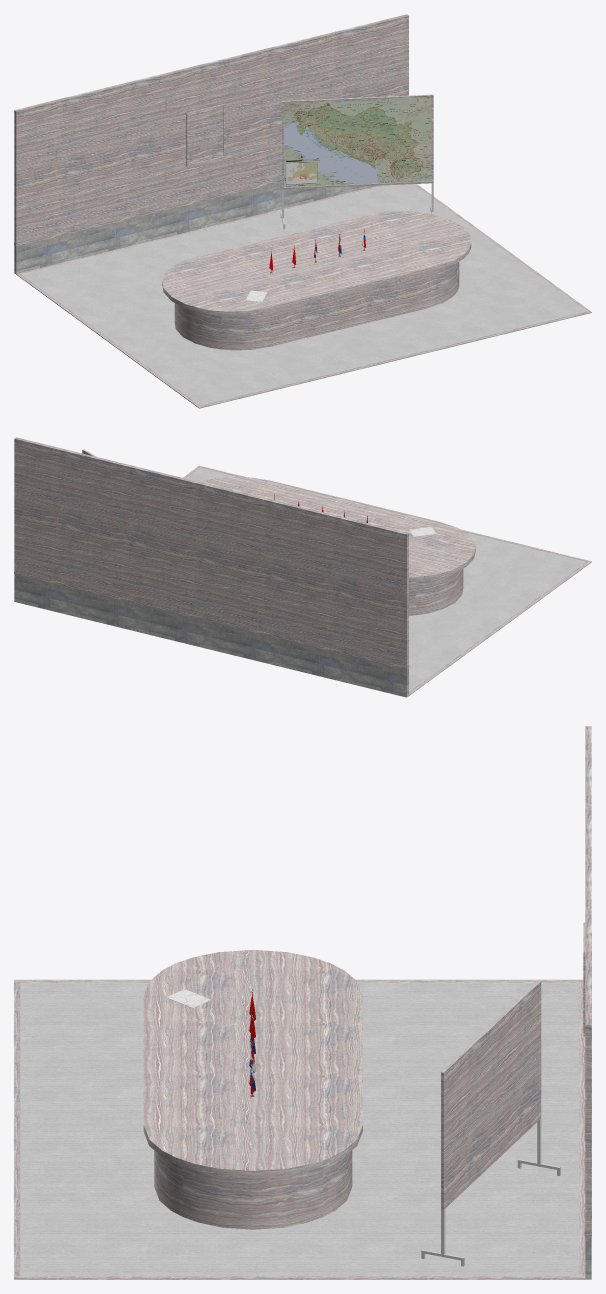
File: ured_predsjednistva.obj
3 views of the same model, one above another, from view 1: azimuth 30°, elevation 25°; view 2: azimuth 150°, elevation 25°; view 3: azimuth 270°, elevation 25° (orthographic). The views are drawn at different scales.
Parts seen in each view (by area): view 1: Part20, Part7, Union3, Part10, Union4, Part16, Part18, Union1, Part1, Part19, Part17, Part8 (+2 smaller); view 2: Part20, Part16, Part7, Union3, Union4, Part19, Part8, Part1; view 3: Part7, Union3, Union1, Union4, Part20, Part2, Part1, Part17, Part8, Part19.
Part boxes in pixels (bbox=[...]): Part20: bbox=[14, 14, 408, 243]; Part7: bbox=[22, 184, 585, 405]; Union3: bbox=[162, 211, 471, 315]; Part10: bbox=[284, 97, 431, 187]; Union4: bbox=[174, 262, 459, 350]; Part16: bbox=[14, 182, 376, 274]; Part18: bbox=[188, 106, 223, 164]; Union1: bbox=[282, 94, 433, 189]; Part1: bbox=[201, 311, 588, 407]; Part19: bbox=[14, 179, 281, 246]; Part17: bbox=[20, 185, 386, 274]; Part8: bbox=[16, 273, 202, 408]; Part20: bbox=[14, 437, 408, 666]; Part16: bbox=[14, 574, 408, 697]; Part7: bbox=[186, 468, 585, 691]; Union3: bbox=[199, 477, 475, 581]; Union4: bbox=[409, 569, 463, 615]; Part19: bbox=[14, 571, 409, 669]; Part8: bbox=[409, 560, 591, 695]; Part1: bbox=[201, 466, 587, 561]; Part7: bbox=[20, 982, 579, 1275]; Union3: bbox=[143, 949, 362, 1177]; Union1: bbox=[441, 980, 541, 1209]; Union4: bbox=[154, 1150, 352, 1229]; Part20: bbox=[585, 726, 591, 1232]; Part2: bbox=[14, 1276, 585, 1279]; Part1: bbox=[14, 982, 20, 1275]; Part17: bbox=[579, 982, 585, 1275]; Part8: bbox=[14, 979, 583, 982]; Part19: bbox=[584, 933, 591, 1236].
Bounding box in the file's own units: 45.83 × 18.37 × 37.43.
Materials: 17 (16 with a texture image).
